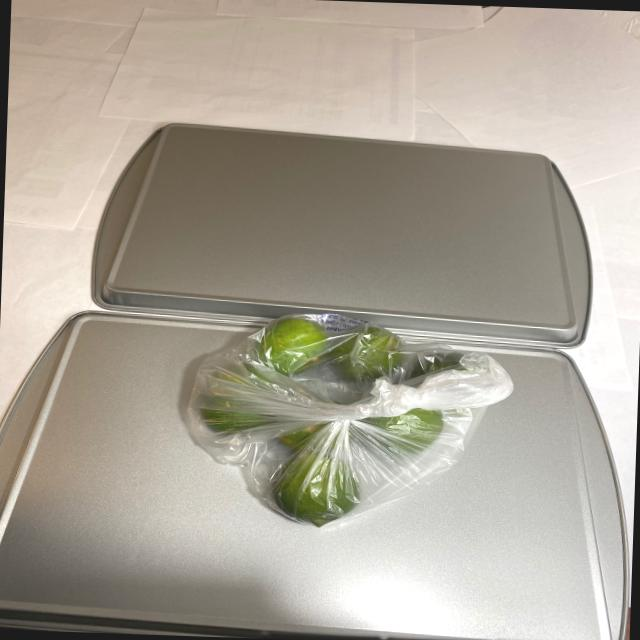lemon: (194, 310, 476, 534)
